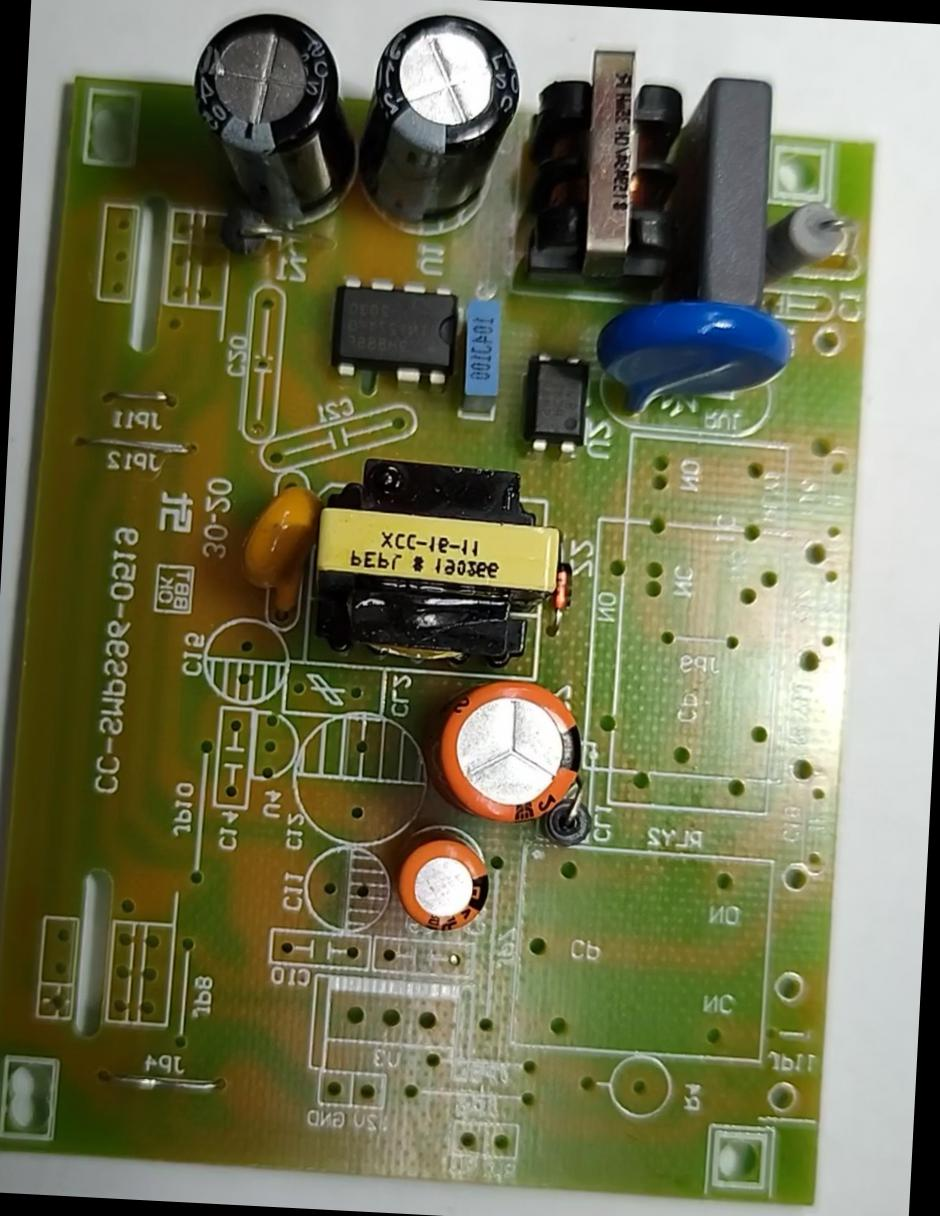Cap1: (428, 672, 592, 832)
Cap2: (394, 828, 501, 938)
Cap3: (352, 5, 530, 240)
Cap4: (184, 6, 354, 234)
MOSFET: (322, 271, 468, 393)
Mov: (593, 286, 798, 432)
Resistor: (760, 188, 857, 294)
Transformer: (302, 448, 566, 672), (512, 43, 690, 304)
